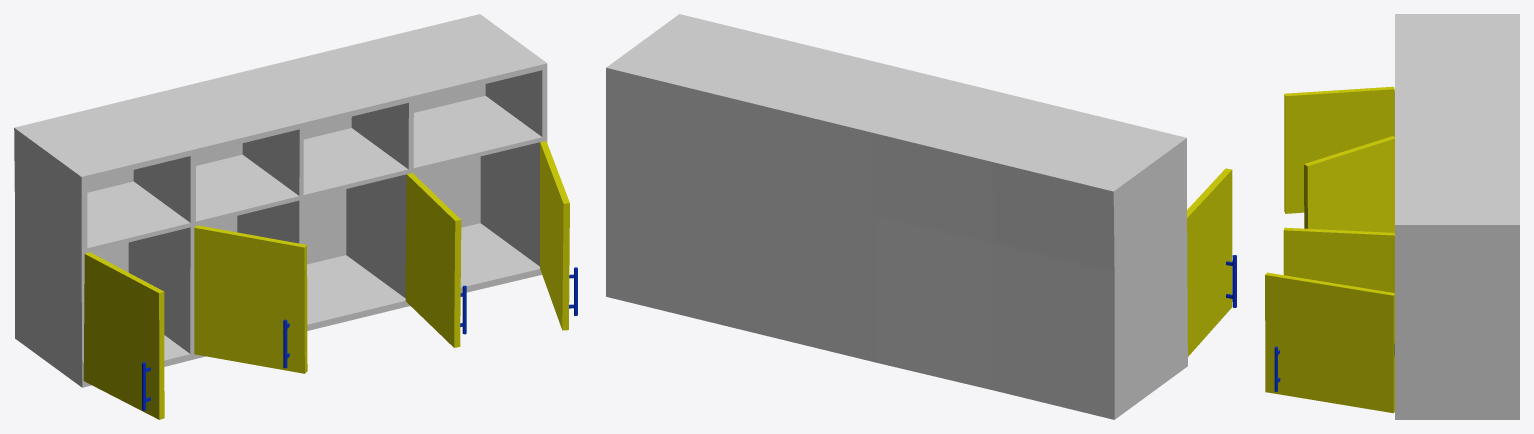
Rendered from upper shutter.fbx.
3 renders of one model, left to right at view 1: azimuth 30°, elevation 25°; view 2: azimuth 150°, elevation 25°; view 3: azimuth 270°, elevation 25°, orthographic. The views are drawn at different scales.
Parts seen in each view (by area): view 1: polySurface31, polySurface40, polySurface38, pCylinder53, polySurface43; view 2: polySurface31, polySurface38; view 3: polySurface31, polySurface43, polySurface38, polySurface40, pCylinder53.
Part boxes in pixels (x1,y1,x2,y2): polySurface31: (14, 14, 547, 387); polySurface40: (194, 225, 307, 373); polySurface38: (83, 252, 164, 419); pCylinder53: (405, 173, 466, 347); polySurface43: (540, 141, 577, 330); polySurface31: (606, 14, 1187, 419); polySurface38: (1187, 168, 1236, 356); polySurface31: (1394, 14, 1519, 419); polySurface43: (1265, 272, 1394, 413); polySurface38: (1284, 86, 1394, 213); polySurface40: (1304, 136, 1394, 232); pCylinder53: (1283, 227, 1394, 292).
Bounding box in the file's own units: 2.73 × 1.18 × 1.39.
